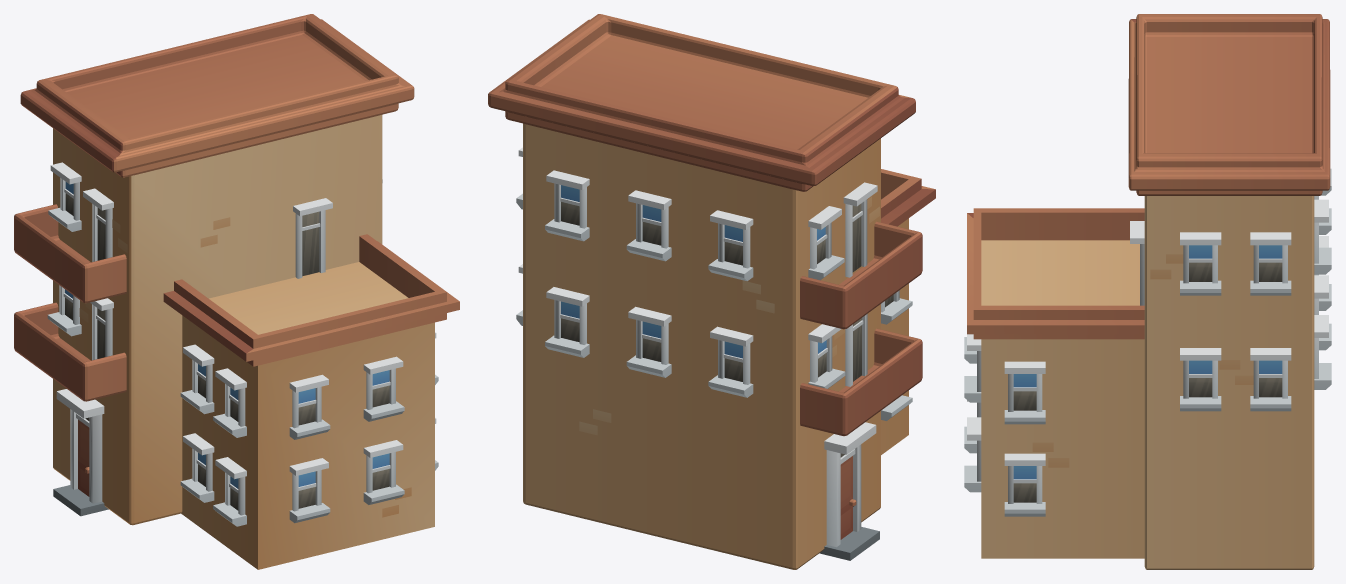
File: crema 1.fbx
The picture shows the model from 3 angles, left to right: view 1: azimuth 30°, elevation 25°; view 2: azimuth 150°, elevation 25°; view 3: azimuth 270°, elevation 25°; orthographic projection. The views are drawn at different scales.
Parts seen in each view (by area): view 1: Cube.020; view 2: Cube.020; view 3: Cube.020.
Part boxes in pixels (bbox=[...]): Cube.020: bbox=[14, 14, 459, 569]; Cube.020: bbox=[488, 14, 935, 569]; Cube.020: bbox=[964, 14, 1331, 569].
Size of the model in its own units: 1702 by 1995 by 1574.
Materials: 3 (3 with a texture image).
